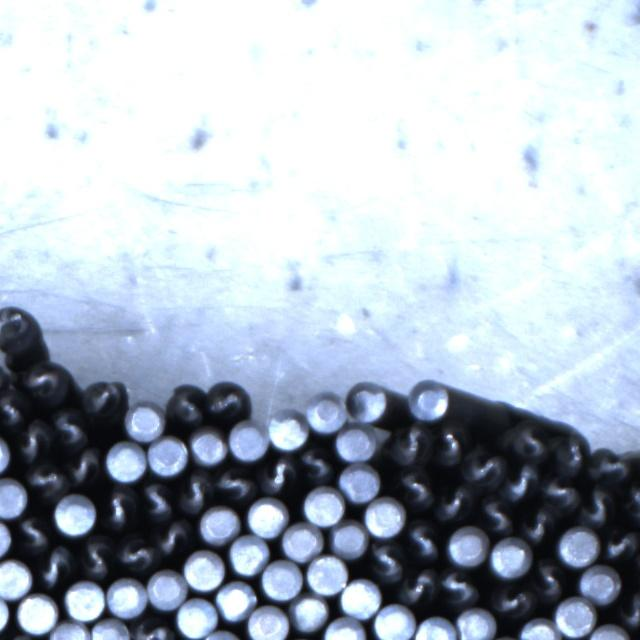tool: (406, 379, 451, 421), (553, 596, 596, 638), (184, 547, 226, 589), (339, 578, 382, 619), (489, 536, 532, 577), (280, 520, 324, 560), (349, 384, 393, 424), (64, 578, 106, 619), (104, 440, 146, 481), (54, 494, 96, 535), (216, 579, 258, 620), (174, 598, 216, 639), (124, 398, 165, 440), (105, 576, 146, 617), (16, 594, 58, 634), (248, 497, 290, 537), (230, 534, 270, 576), (229, 420, 269, 462), (364, 495, 406, 535), (580, 562, 622, 602), (306, 554, 347, 594), (559, 526, 600, 566), (148, 569, 188, 610), (266, 409, 307, 449), (447, 524, 488, 564), (262, 560, 303, 600), (199, 504, 240, 544), (338, 462, 379, 502), (149, 435, 189, 475), (303, 487, 344, 526), (373, 602, 416, 639), (189, 426, 228, 466), (307, 394, 346, 433), (248, 604, 290, 640), (291, 594, 330, 632), (336, 426, 378, 461), (331, 522, 368, 560), (454, 606, 495, 640), (0, 557, 32, 597), (0, 477, 28, 517), (323, 615, 367, 640), (415, 615, 457, 640), (518, 616, 558, 640), (90, 617, 131, 640), (49, 620, 91, 640), (584, 623, 630, 640), (198, 629, 241, 640), (0, 432, 11, 474), (0, 517, 11, 558), (0, 591, 10, 634)
tool_b: (0, 303, 43, 358), (20, 360, 69, 404), (387, 424, 430, 468), (83, 376, 129, 417), (99, 484, 138, 530), (437, 568, 480, 608), (168, 381, 206, 426), (592, 442, 637, 480), (206, 378, 248, 418), (36, 544, 74, 588), (405, 518, 443, 562), (460, 448, 502, 487), (552, 427, 590, 470), (16, 416, 53, 460), (434, 483, 474, 523), (532, 560, 570, 602), (79, 536, 116, 579), (540, 472, 580, 511), (51, 406, 89, 447), (156, 517, 194, 558), (212, 466, 254, 503), (367, 540, 404, 582), (513, 422, 552, 461), (116, 533, 156, 571), (25, 461, 66, 498), (399, 568, 438, 606), (398, 468, 435, 508), (477, 497, 514, 536), (503, 463, 540, 502), (66, 446, 102, 486), (140, 480, 176, 520), (178, 471, 213, 512), (14, 514, 51, 552), (260, 456, 297, 494), (600, 528, 640, 563), (581, 485, 616, 525), (434, 422, 468, 463), (494, 584, 534, 618), (298, 446, 334, 482), (520, 507, 555, 543), (128, 618, 174, 640), (619, 480, 640, 526), (0, 393, 26, 428), (619, 589, 640, 630), (0, 348, 16, 387)
